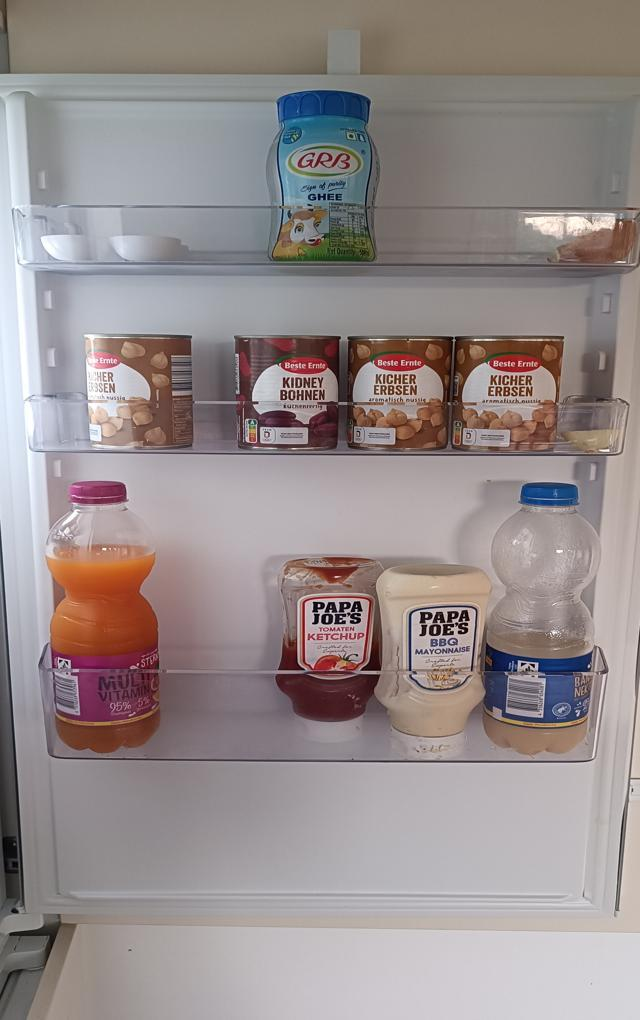bananajuice: (487, 481, 596, 758)
chickpeas: (83, 331, 194, 450), (456, 336, 560, 450), (349, 334, 450, 445)
ghee: (268, 87, 382, 266)
kidneybeans: (234, 332, 339, 453)
mayoniasie: (378, 563, 489, 765)
orangejuice: (45, 477, 163, 754)
tomatoketchup: (274, 554, 380, 743)
